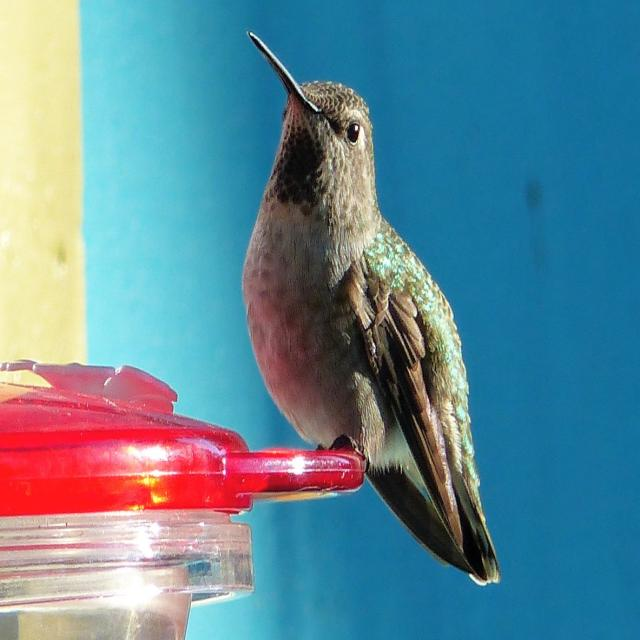Humming Bird: (240, 23, 504, 584)
